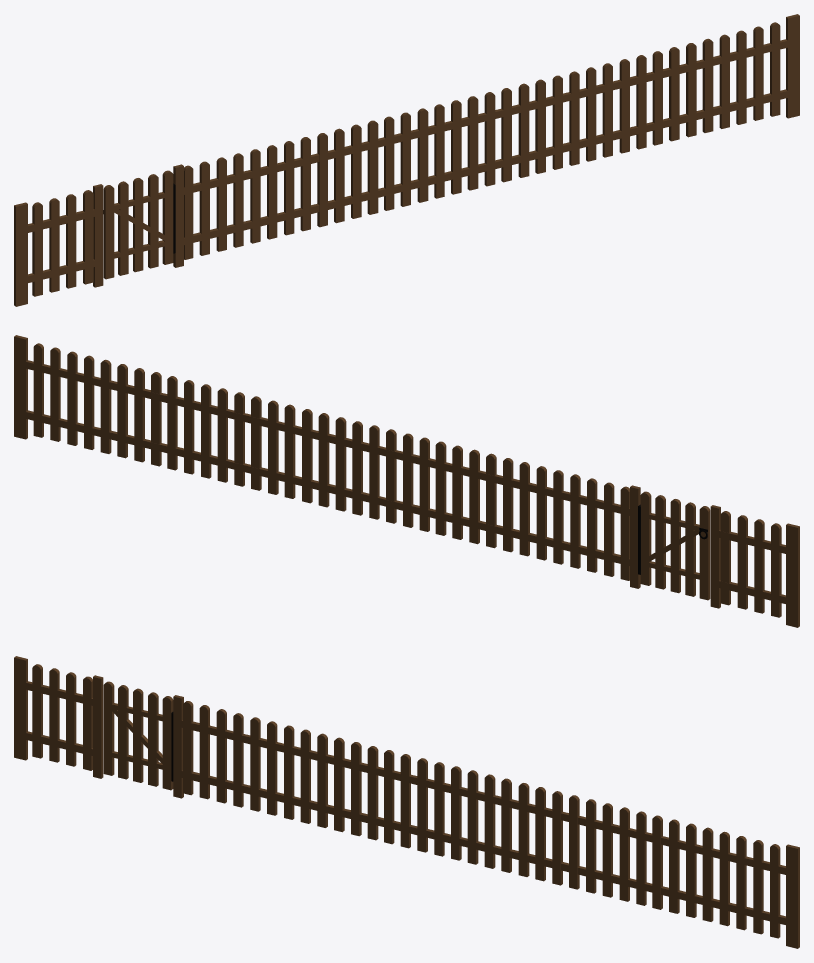
File: FenceTest.fbx
3 renders of one model, top to bottom at view 1: azimuth 30°, elevation 25°; view 2: azimuth 150°, elevation 25°; view 3: azimuth 330°, elevation 25°, orthographic.
Parts seen in each view (by area): view 1: Plane.279; view 2: Plane.279; view 3: Plane.279.
Part boxes in pixels (x1=…): Plane.279: x1=14, y1=14, x2=799, y2=306; Plane.279: x1=14, y1=335, x2=799, y2=627; Plane.279: x1=14, y1=656, x2=799, y2=948.
Bounding box in the file's own units: 2957 × 361 × 19.94.
